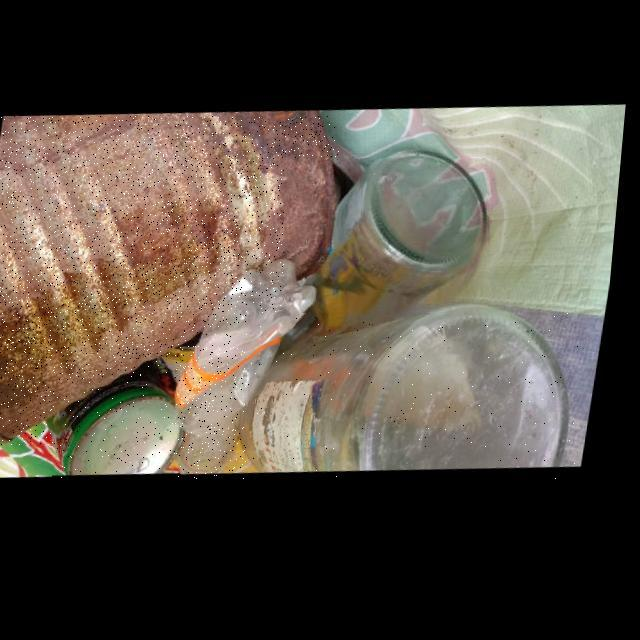glass: (246, 313, 578, 479), (285, 158, 488, 358)
metal: (0, 117, 339, 445), (53, 379, 190, 478)
plastic: (181, 264, 323, 479)
